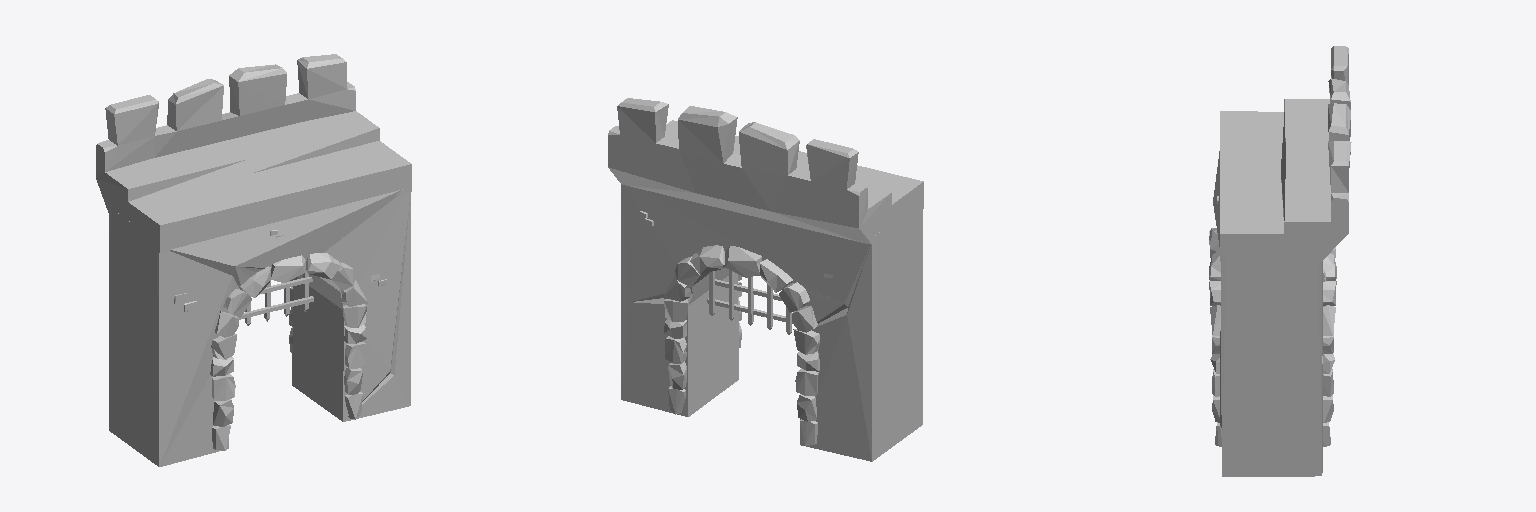
The model's file is castlegate.obj.
The picture shows the model from 3 angles: view 1: azimuth 30°, elevation 25°; view 2: azimuth 150°, elevation 25°; view 3: azimuth 270°, elevation 25°; orthographic projection.
Parts seen in each view (by area): view 1: Castle-gate.003_Untitled.153, castle-wall-top-half.008_Untitled.152, Castle-lattice-small.001_Untitled.154; view 2: Castle-gate.003_Untitled.153, castle-wall-top-half.008_Untitled.152, Castle-lattice-small.001_Untitled.154; view 3: Castle-gate.003_Untitled.153, castle-wall-top-half.008_Untitled.152.
Part boxes in pixels (bbox=[...]): Castle-gate.003_Untitled.153: bbox=[109, 189, 410, 466]; castle-wall-top-half.008_Untitled.152: bbox=[96, 54, 411, 252]; Castle-lattice-small.001_Untitled.154: bbox=[238, 271, 313, 325]; Castle-gate.003_Untitled.153: bbox=[621, 184, 922, 461]; castle-wall-top-half.008_Untitled.152: bbox=[608, 98, 923, 244]; Castle-lattice-small.001_Untitled.154: bbox=[707, 266, 792, 334]; Castle-gate.003_Untitled.153: bbox=[1209, 151, 1336, 476]; castle-wall-top-half.008_Untitled.152: bbox=[1220, 46, 1351, 261].
Bounding box in the file's own units: 1.84 × 2.23 × 0.9051.